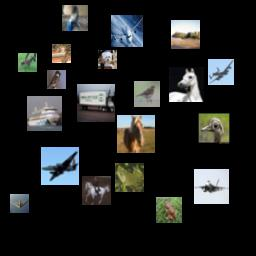airplane: (41, 147, 79, 185), (194, 169, 229, 204), (111, 15, 143, 47), (171, 20, 200, 49), (208, 59, 234, 85), (10, 194, 29, 213)
bird: (198, 112, 230, 144), (134, 81, 160, 107), (62, 5, 88, 31), (47, 70, 66, 89)
cat: (52, 44, 71, 63)
deer: (18, 53, 37, 72)
dog: (98, 50, 117, 69)
frog: (115, 163, 144, 192), (156, 197, 182, 223)
ship: (27, 96, 62, 131)
truck: (77, 84, 115, 122)
